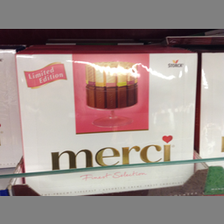chocolate: (14, 49, 198, 194)
